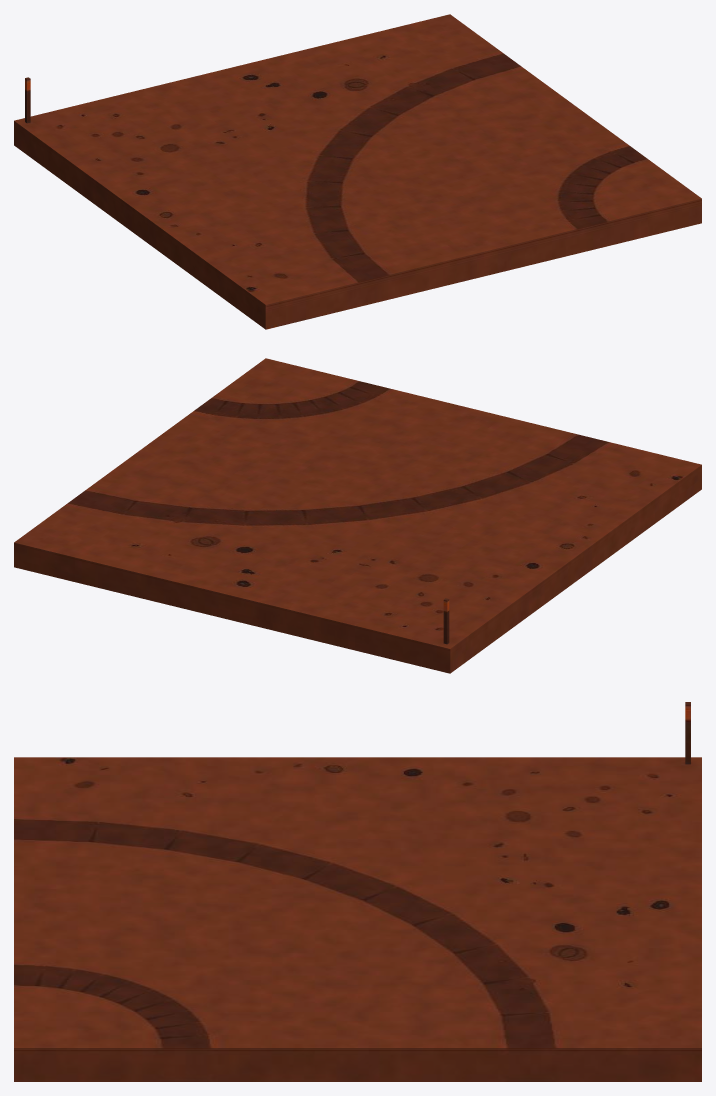
Rendered from road_corner.glb.
3 renders of one model, top to bottom at view 1: azimuth 30°, elevation 25°; view 2: azimuth 150°, elevation 25°; view 3: azimuth 270°, elevation 25°, orthographic. The views are drawn at different scales.
Visible parts, largest first — view 1: road_corner; view 2: road_corner; view 3: road_corner.
Boxes of the visible parts, x1,y1,x2,y2 form: road_corner: (14,14,701,329); road_corner: (14,358,701,673); road_corner: (14,702,701,1081).
Size of the model in its own units: 6 by 0.9 by 6.
Materials: 1 (1 with a texture image).
